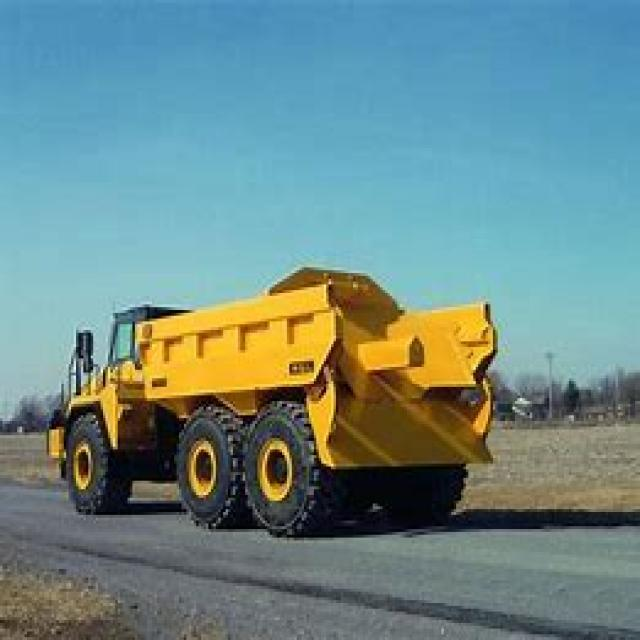dump_truck: (49, 262, 517, 554)
